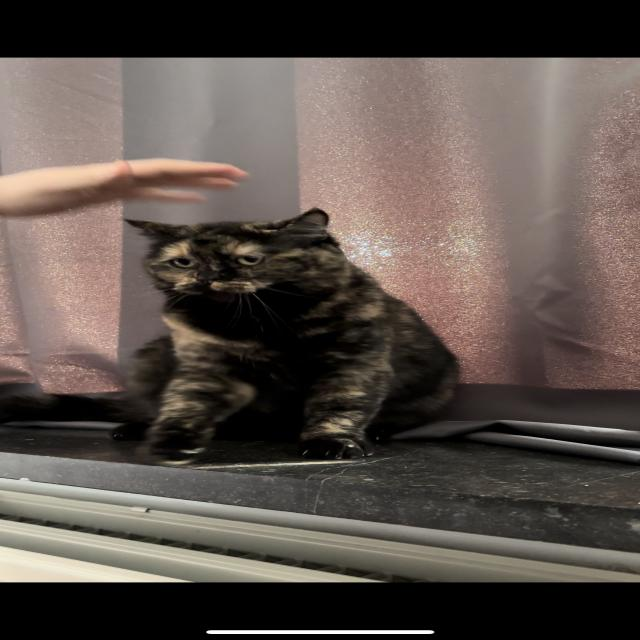authorized: (3, 206, 461, 465)
